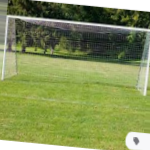goals: (1, 13, 150, 96)
